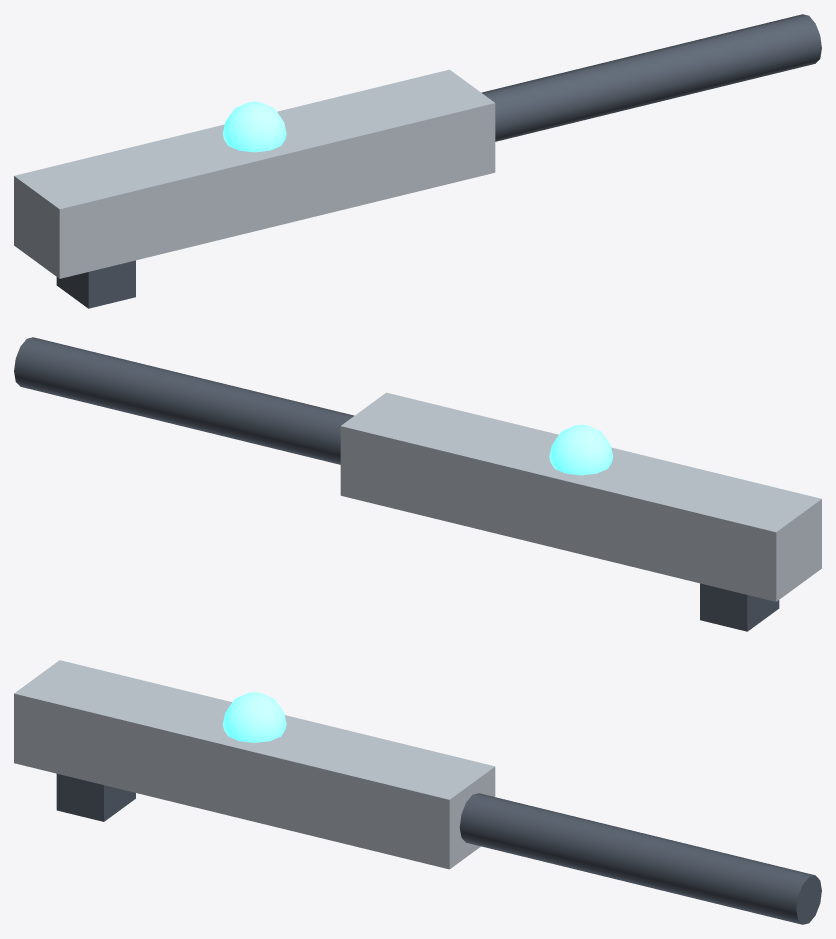
The model's file is gun_rifle.glb.
3 renders of one model, top to bottom at view 1: azimuth 30°, elevation 25°; view 2: azimuth 150°, elevation 25°; view 3: azimuth 330°, elevation 25°, orthographic.
Parts seen in each view (by area): view 1: body, barrel, core; view 2: body, barrel, core; view 3: body, barrel, core.
Boxes of the visible parts, x1=… form: body: x1=14, y1=69, x2=495, y2=308; barrel: x1=481, y1=14, x2=821, y2=141; core: x1=222, y1=101, x2=286, y2=152; body: x1=340, y1=392, x2=821, y2=631; barrel: x1=14, y1=337, x2=354, y2=464; core: x1=549, y1=424, x2=613, y2=475; body: x1=14, y1=660, x2=495, y2=869; barrel: x1=459, y1=793, x2=821, y2=924; core: x1=222, y1=692, x2=286, y2=742.
Bounding box in the file's own units: 0.975 × 0.1785 × 0.1.
